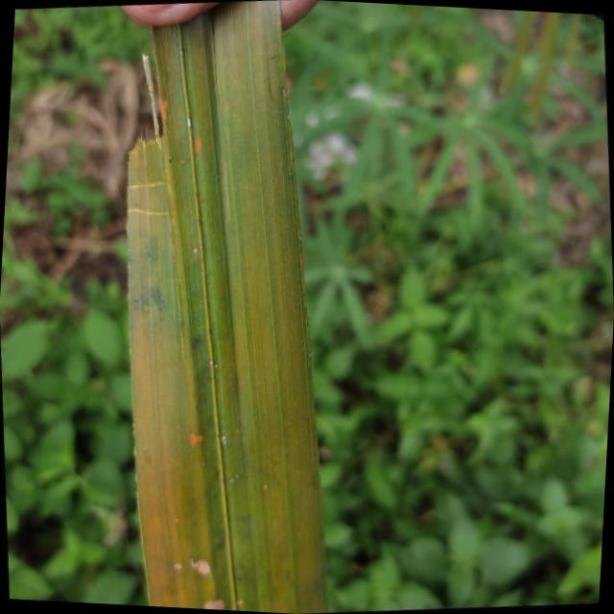Megnesium: (120, 6, 331, 614)
